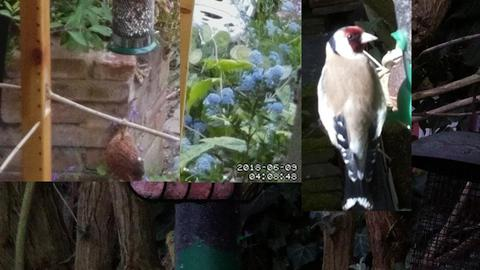goldfinch: (316, 25, 386, 211)
